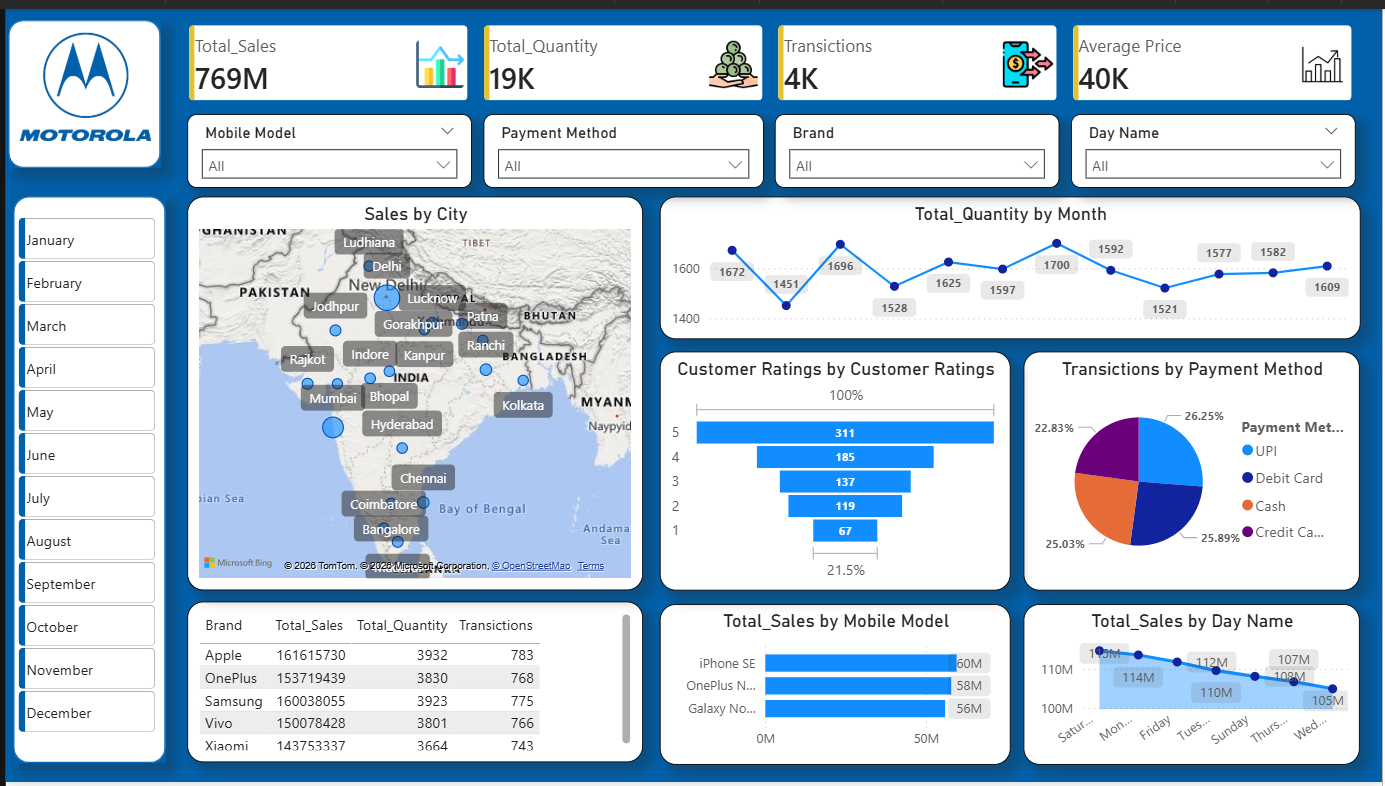

The dashboard page shown, as its layout file describes it:
{"tool":"powerbi","page":{"name":"Page 1","canvas":[1280,720],"ordinal":0},"visuals":[{"type":"shape","box":[2.7,11,141.3,137.2],"z":0},{"type":"image","box":[12.3,11,122.1,123.5],"z":1000},{"type":"shape","box":[6.9,174.3,141.3,526.9],"z":2000},{"type":"advancedSlicerVisual","fields":{"Values":["Sheet1.Date.Variation.Date Hierarchy.Month"]},"box":[6.9,189.4,137.2,498.1],"z":3000},{"type":"lineChart","fields":{"Category":["Sales_Data.Date.Variation.Date Hierarchy.Month","Sales_Data.Date.Variation.Date Hierarchy.Day"],"Y":["Sales_Data.Total_Quantity"]},"box":[607.9,174.3,651.8,133.1],"z":4000},{"type":"clusteredBarChart","fields":{"Category":["Sales_Data.Mobile Model"],"Y":["Sales_Data.Total_Sales"]},"box":[607.9,553,326.6,149.6],"z":5000},{"type":"pieChart","fields":{"Y":["Sales_Data.Transictions"],"Category":["Sales_Data.Payment Method"]},"box":[946.8,318.4,312.9,222.3],"z":6000},{"type":"funnel","title":"Customer Ratings by Customer Ratings","fields":{"Category":["Sales_Data.Customer Ratings"],"Y":["CountNonNull(Sales_Data.Customer Ratings)"]},"box":[607.9,318.4,326.6,222.3],"z":7000},{"type":"areaChart","fields":{"Y":["Sales_Data.Total_Sales"],"Category":["Sales_Data.Day Name"]},"box":[946.8,553,312.9,149.6],"z":8000},{"type":"tableEx","fields":{"Values":["Sales_Data.Brand","Sales_Data.Total_Sales","Sales_Data.Total_Quantity","Sales_Data.Transictions"]},"box":[168.8,551.6,424,149.6],"z":9000},{"type":"slicer","fields":{"Values":["Sales_Data.Mobile Model"]},"box":[168.8,97.4,264.8,68.6],"z":10000},{"type":"slicer","fields":{"Values":["Sales_Data.Payment Method"]},"box":[444.6,97.4,260.7,68.6],"z":11000},{"type":"slicer","fields":{"Values":["Sales_Data.Brand"]},"box":[714.9,97.4,264.8,68.6],"z":12000},{"type":"slicer","fields":{"Values":["Sales_Data.Day Name"]},"box":[990.7,97.4,264.8,68.6],"z":13000},{"type":"map","title":"Sales by City","fields":{"Category":["Sales_Data.City"],"Size":["Sales_Data.Total_Sales"]},"box":[168.8,174.3,424,366.4],"z":14000},{"type":"cardVisual","fields":{"Data":["Sales_Data.Total_Sales","Sales_Data.Total_Quantity","Sales_Data.Transictions","Sales_Data.Average"]},"box":[153.7,0,1115.6,97.4],"z":15000}]}

Visuals, with their boxes in screenshot pixels (x1, y1, x2, y2), scaled from the page's 1280x720 canvas onto the 1385x786 screenshot:
shape: (x1=3, y1=12, x2=156, y2=162)
image: (x1=13, y1=12, x2=145, y2=147)
shape: (x1=7, y1=190, x2=160, y2=765)
advancedSlicerVisual - Sheet1.Date.Variation.Date Hierarchy.Month: (x1=7, y1=207, x2=156, y2=751)
lineChart - Sales_Data.Date.Variation.Date Hierarchy.Month x Sales_Data.Date.Variation.Date Hierarchy.Day: (x1=658, y1=190, x2=1363, y2=336)
clusteredBarChart - Sales_Data.Mobile Model x Sales_Data.Total_Sales: (x1=658, y1=604, x2=1011, y2=767)
pieChart - Sales_Data.Transictions x Sales_Data.Payment Method: (x1=1024, y1=348, x2=1363, y2=590)
"Customer Ratings by Customer Ratings" funnel: (x1=658, y1=348, x2=1011, y2=590)
areaChart - Sales_Data.Total_Sales x Sales_Data.Day Name: (x1=1024, y1=604, x2=1363, y2=767)
tableEx - Sales_Data.Brand x Sales_Data.Total_Sales: (x1=183, y1=602, x2=641, y2=765)
slicer - Sales_Data.Mobile Model: (x1=183, y1=106, x2=469, y2=181)
slicer - Sales_Data.Payment Method: (x1=481, y1=106, x2=763, y2=181)
slicer - Sales_Data.Brand: (x1=774, y1=106, x2=1060, y2=181)
slicer - Sales_Data.Day Name: (x1=1072, y1=106, x2=1358, y2=181)
"Sales by City" map: (x1=183, y1=190, x2=641, y2=590)
cardVisual - Sales_Data.Total_Sales x Sales_Data.Total_Quantity: (x1=166, y1=0, x2=1373, y2=106)
